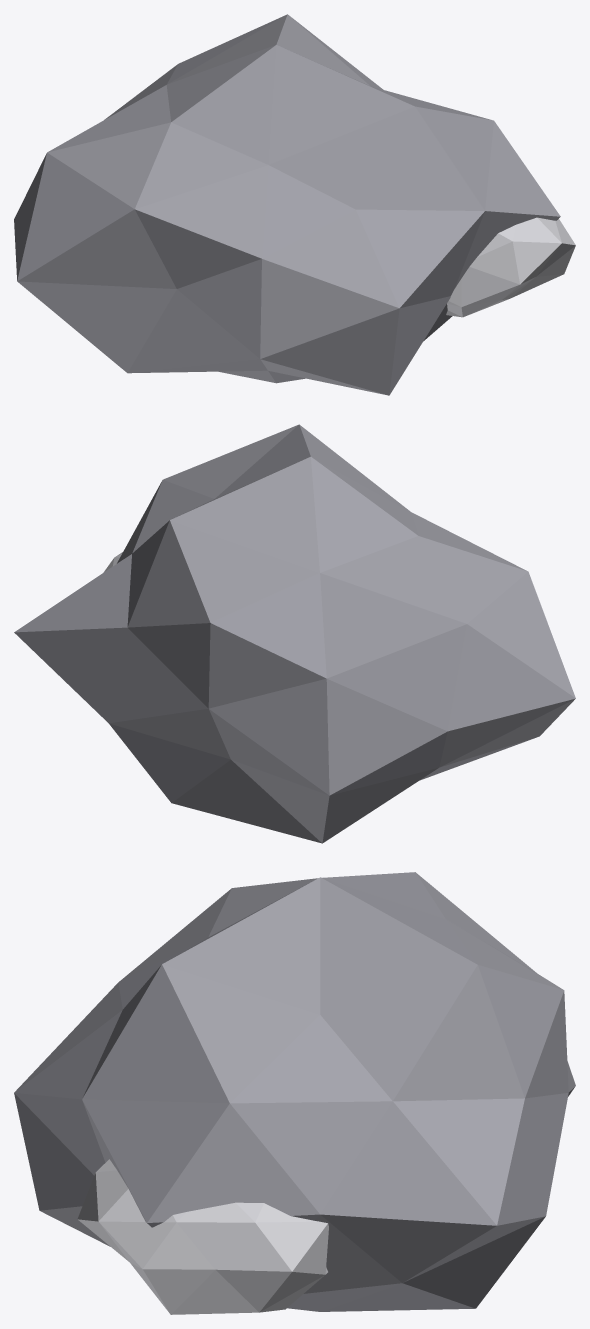
File: deco_rock_small.obj
The picture shows the model from 3 angles, top to bottom: view 1: azimuth 30°, elevation 25°; view 2: azimuth 150°, elevation 25°; view 3: azimuth 270°, elevation 25°; orthographic projection. The views are drawn at different scales.
Parts seen in each view (by area): view 1: deco_rock_small; view 2: deco_rock_small; view 3: deco_rock_small.
Boxes of the visible parts, left/top/right/bottom form: deco_rock_small: left=14, top=14, right=575, bottom=395; deco_rock_small: left=14, top=424, right=575, bottom=843; deco_rock_small: left=14, top=872, right=575, bottom=1314.
Bounding box in the file's own units: 0.1011 × 0.0665 × 0.0805.
1 material, 1 textured.
